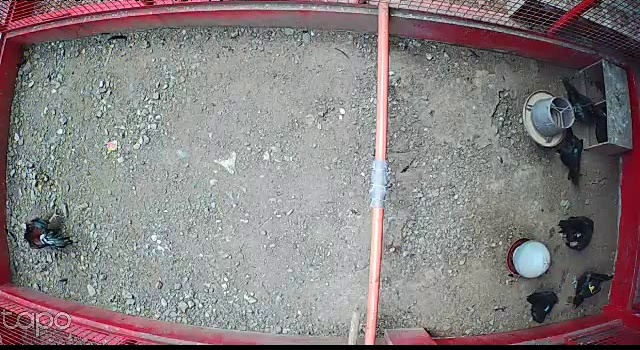Chicken: (557, 74, 609, 127), (552, 121, 589, 190), (568, 265, 618, 313), (556, 213, 596, 255), (522, 288, 562, 325)
Drinker: (503, 236, 553, 279)
Feeder: (523, 88, 577, 147)
Rooster: (21, 212, 81, 253)
Saddle_Color_Yellow: (588, 281, 598, 295)
